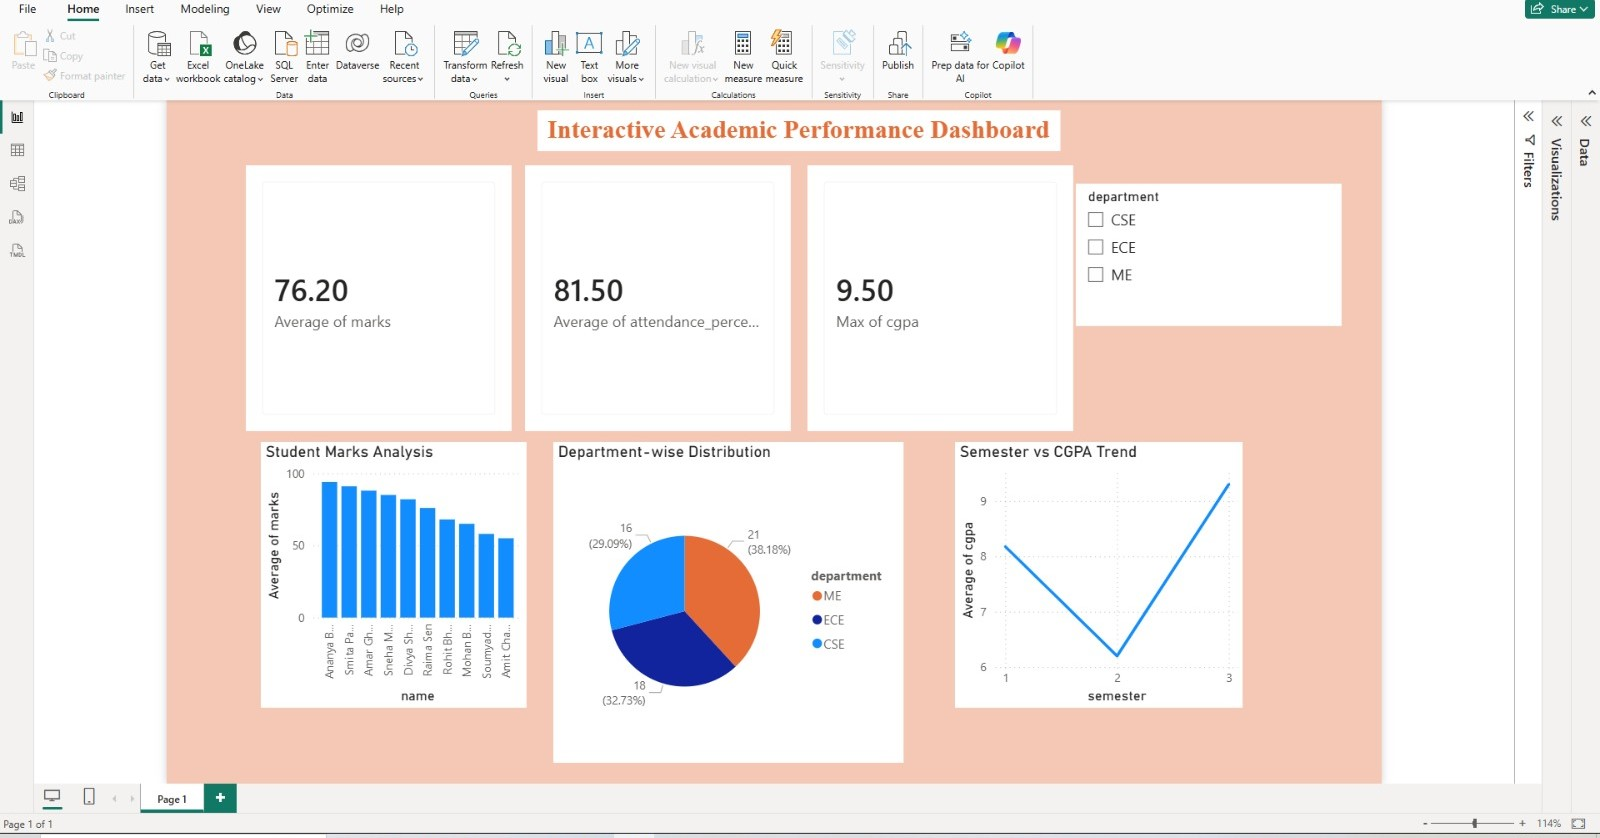

What the dashboard file says about the page in this screenshot:
{"tool":"powerbi","page":{"name":"Page 1","canvas":[1280,720],"ordinal":0},"visuals":[{"type":"cardVisual","fields":{"Data":["Avg(students.marks)"]},"box":[83.6,68.1,280.1,280.1],"z":0},{"type":"cardVisual","fields":{"Data":["Avg(students.attendance_percentage)"]},"box":[377.4,68.1,280.1,280.1],"z":1000},{"type":"cardVisual","fields":{"Data":["Max(students.cgpa)"]},"box":[675,68.1,280.1,280.1],"z":1001},{"type":"clusteredColumnChart","title":"Student Marks Analysis","fields":{"Category":["students.name"],"Y":["Avg(students.marks)"]},"box":[99.2,360,280,280],"z":1002},{"type":"pieChart","title":"Department-wise Distribution","fields":{"Category":["students.department"],"Y":["Sum(students.student_id)"]},"box":[407.5,359.9,368.6,337.5],"z":1003},{"type":"lineChart","title":"Semester vs CGPA Trend","fields":{"Category":["students.semester"],"Y":["Avg(students.cgpa)"]},"box":[830.6,359.9,303.5,280.1],"z":1004},{"type":"slicer","fields":{"Values":["students.department"]},"box":[958.1,87.5,280.1,149.8],"z":1005},{"type":"textbox","box":[391,10.7,550.5,42.8],"z":1006}]}

Visuals, with their boxes on the page's 1280x720 design canvas (x1, y1, x2, y2). These are canvas units, not pixel positions in the 1600x838 screenshot, which may show the page scaled, cropped or inside an application window:
cardVisual - Avg(students.marks): detection(84, 68, 364, 348)
cardVisual - Avg(students.attendance_percentage): detection(377, 68, 658, 348)
cardVisual - Max(students.cgpa): detection(675, 68, 955, 348)
"Student Marks Analysis" clusteredColumnChart: detection(99, 360, 379, 640)
"Department-wise Distribution" pieChart: detection(408, 360, 776, 697)
"Semester vs CGPA Trend" lineChart: detection(831, 360, 1134, 640)
slicer - students.department: detection(958, 88, 1238, 237)
textbox: detection(391, 11, 942, 54)
